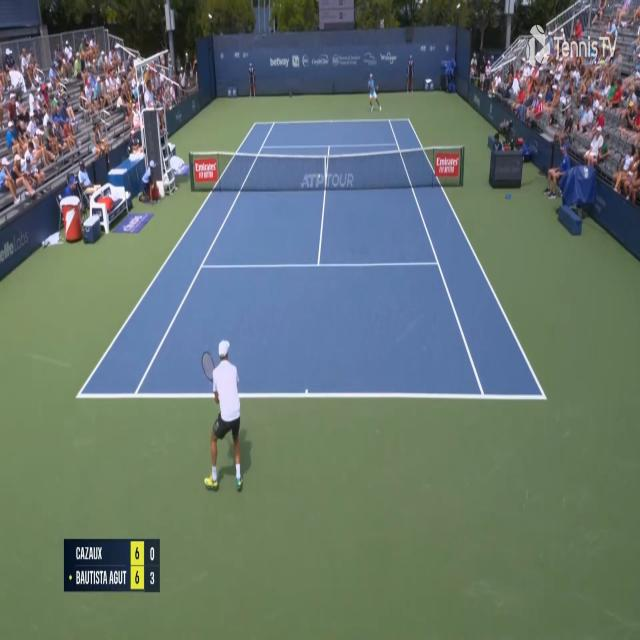tennis-player: (201, 335, 252, 496), (366, 72, 383, 113)
